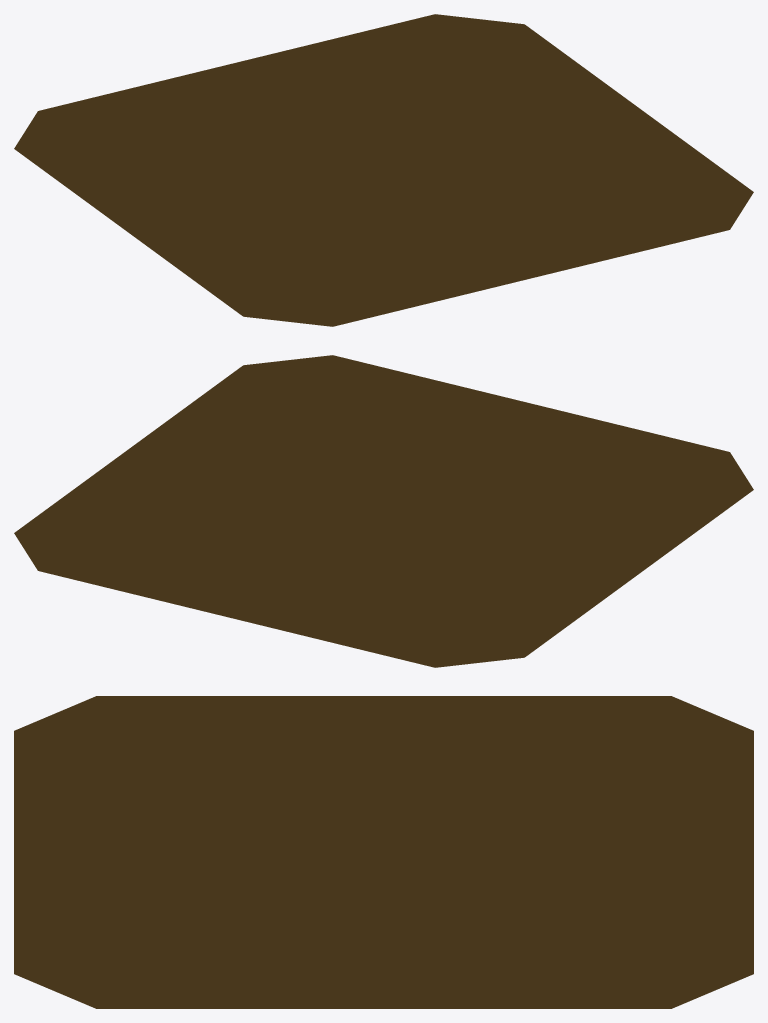
File: dirt_003.fbx
3 renders of one model, top to bottom at view 1: azimuth 30°, elevation 25°; view 2: azimuth 150°, elevation 25°; view 3: azimuth 270°, elevation 25°, orthographic. The views are drawn at different scales.
Visible parts, largest first — view 1: dirt.003; view 2: dirt.003; view 3: dirt.003.
Boxes of the visible parts, bbox=[...] form: dirt.003: bbox=[14, 14, 753, 326]; dirt.003: bbox=[14, 355, 753, 667]; dirt.003: bbox=[14, 696, 753, 1008].
Bounding box in the file's own units: 146 × 2.37e-05 × 146.
